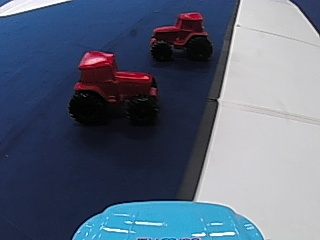tractor: (68, 47, 155, 125), (149, 11, 214, 62)
